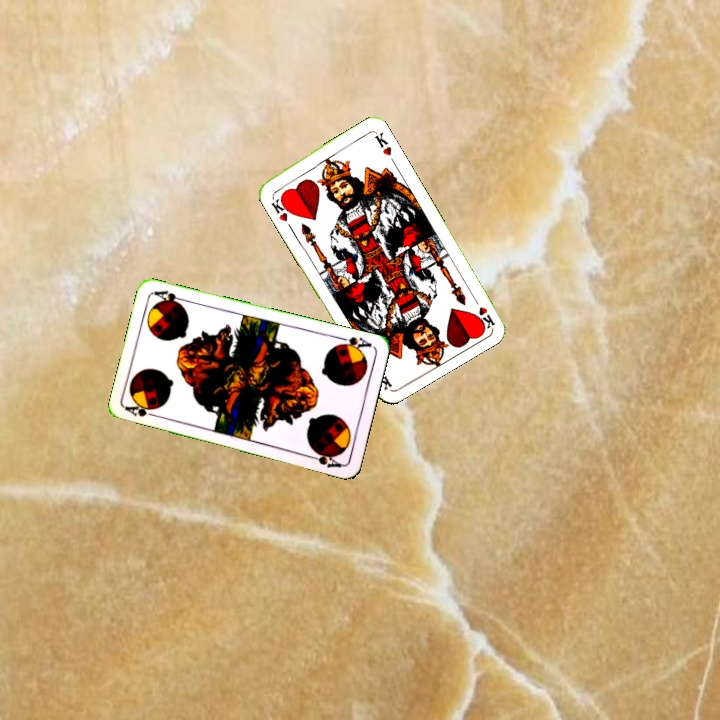HK: (468, 292, 497, 331), (267, 192, 294, 224)
SA: (333, 333, 374, 354), (122, 402, 162, 420)
